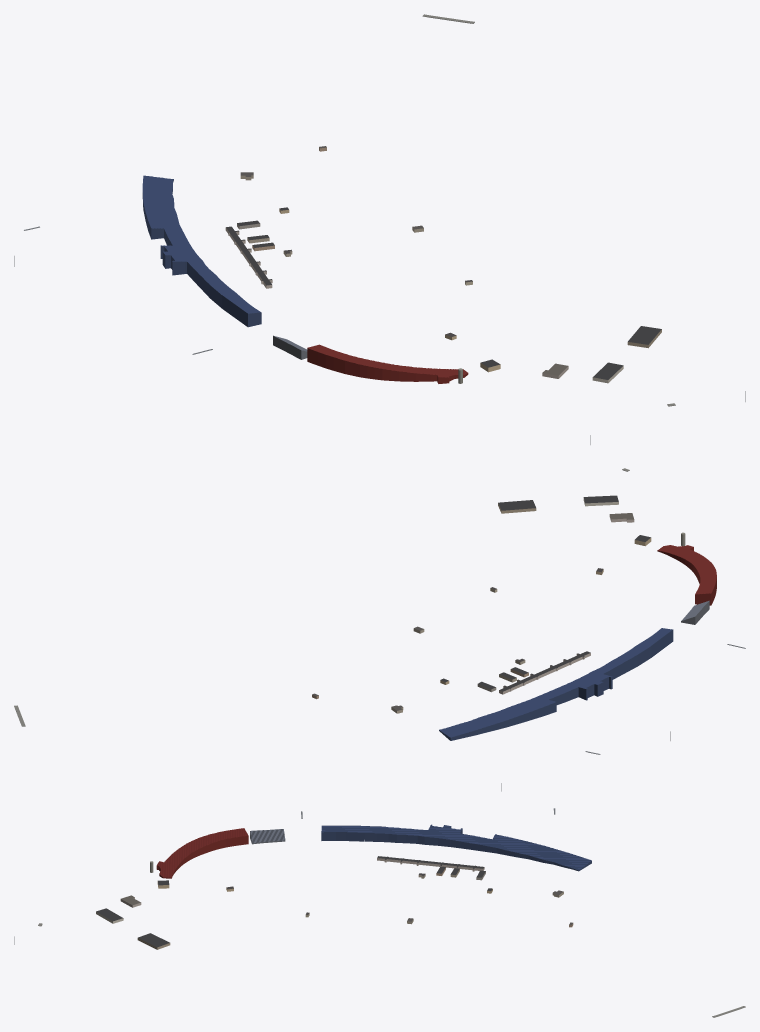
Rendered from scenery.glb.
3 views of the same model, one above another, from view 1: azimuth 30°, elevation 25°; view 2: azimuth 150°, elevation 25°; view 3: azimuth 270°, elevation 25° (orthographic). The views are drawn at different scales.
Visible parts, largest first — view 1: chunk_13_14, chunk_14_16, chunk_14_15, chunk_14_14; view 2: chunk_13_14, chunk_14_16, chunk_14_15; view 3: chunk_13_14, chunk_14_16, chunk_14_15, chunk_13_16.
Boxes of the visible parts, x1,y1,x2,y2 form: chunk_13_14: (14,175,261,327); chunk_14_16: (307,332,500,383); chunk_14_15: (225,226,292,288); chunk_14_14: (237,172,289,251); chunk_13_14: (439,628,673,754); chunk_14_16: (596,532,716,605); chunk_14_15: (499,651,590,694); chunk_13_14: (321,783,591,871); chunk_14_16: (150,828,248,891); chunk_14_15: (377,856,484,878); chunk_13_16: (250,829,285,844).
Size of the model in its own units: 1446 by 41.9 by 2007.
